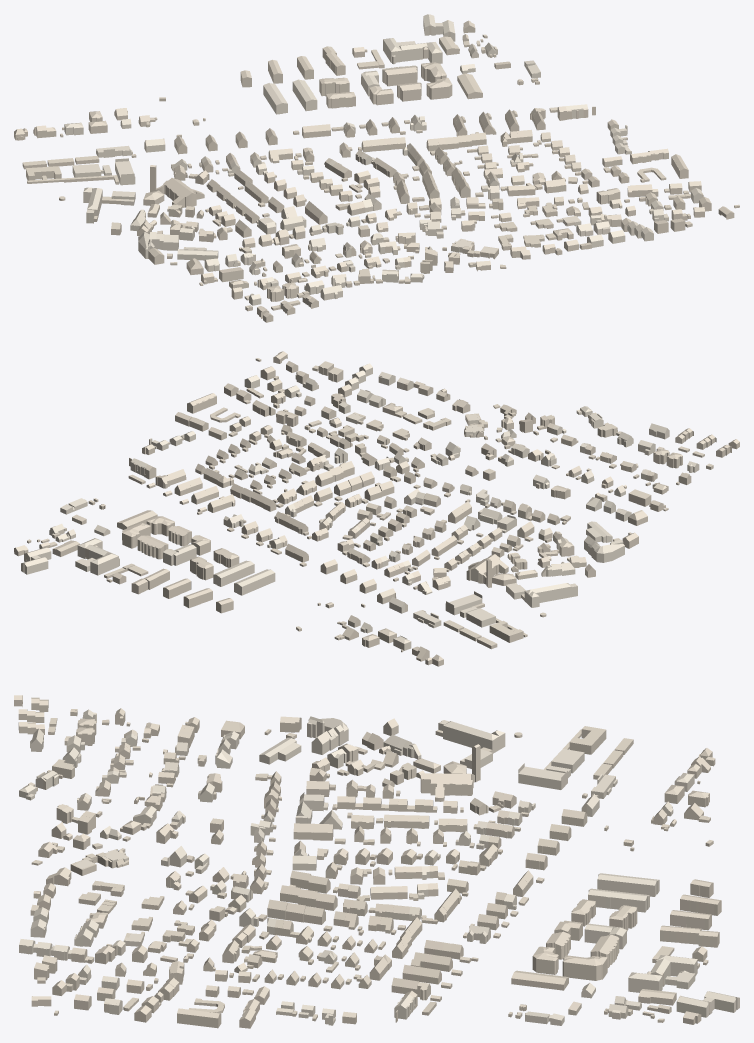
3 views of the same model, one above another, from view 1: azimuth 30°, elevation 25°; view 2: azimuth 150°, elevation 25°; view 3: azimuth 270°, elevation 25° (orthographic). The views are drawn at different scales.
Size of the model in its own units: 636 by 49.61 by 645.
